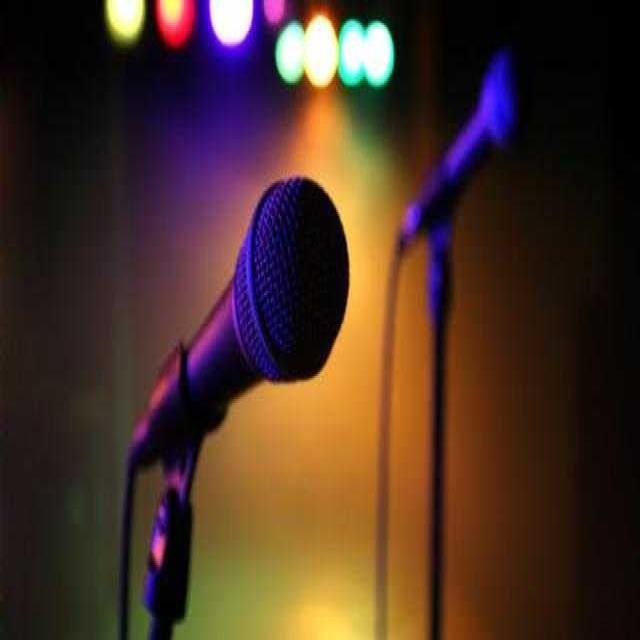microphone: (138, 175, 350, 472), (399, 45, 517, 246)
